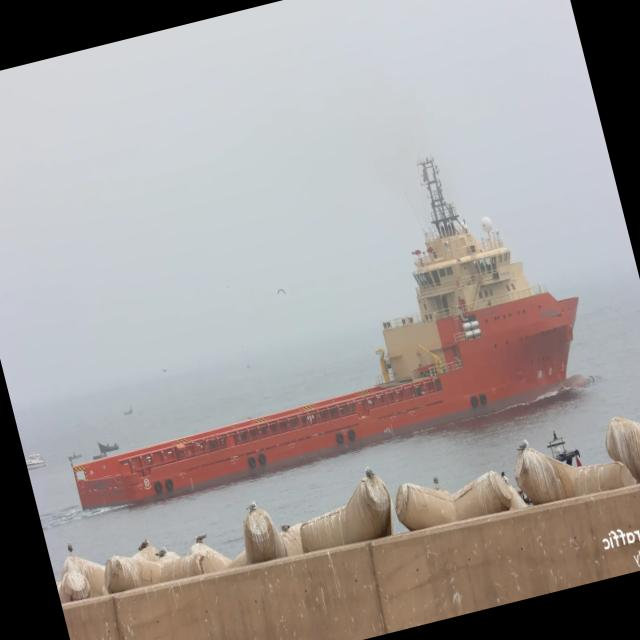Offshore: (72, 159, 578, 508)
